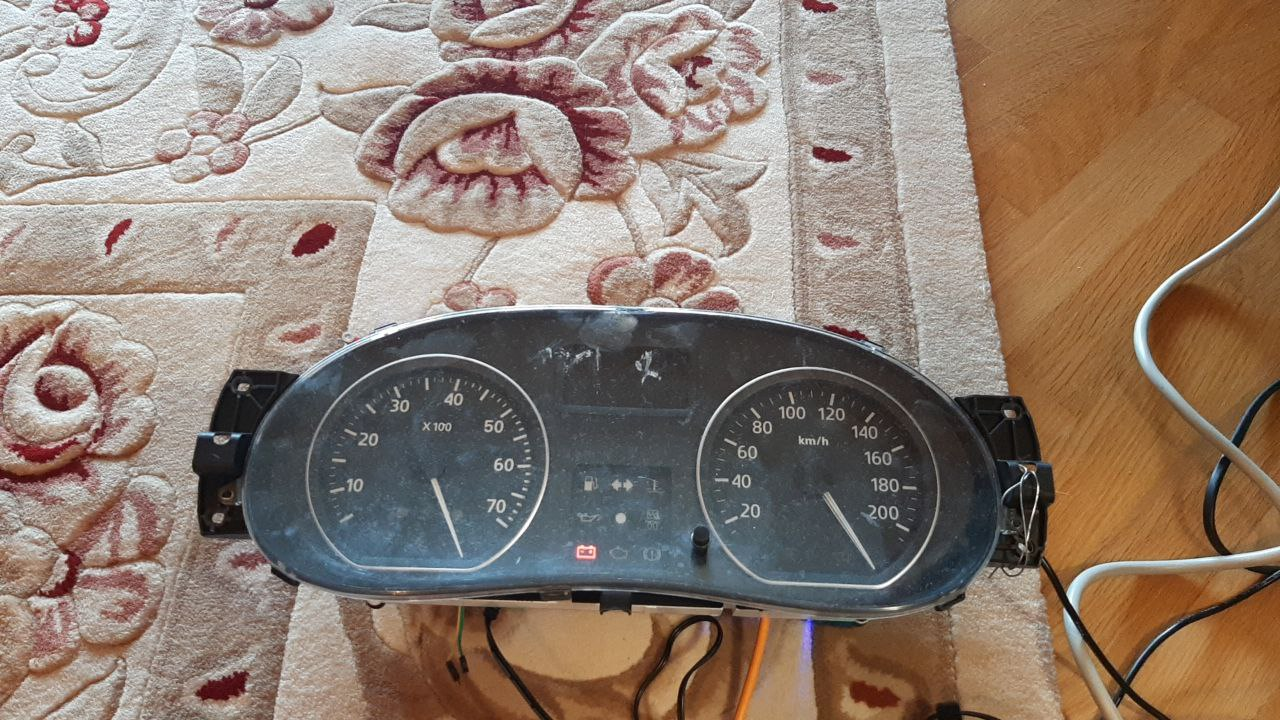accumulator: (573, 539, 598, 561)
